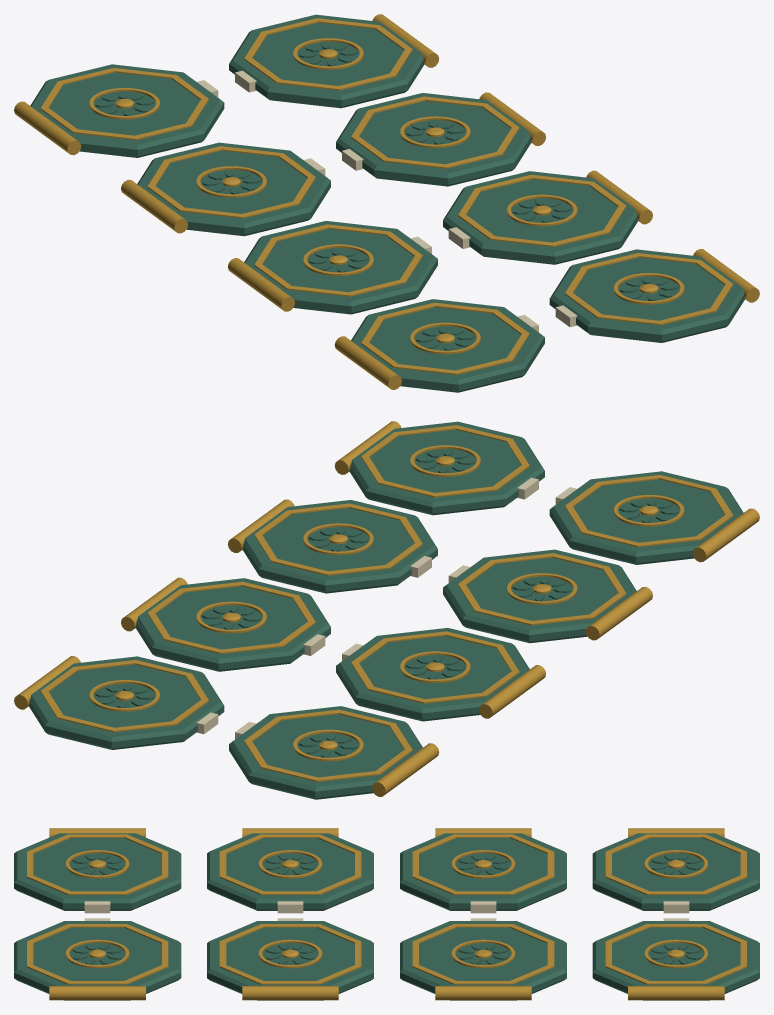
Rendered from vls8_hatches.obj.
3 renders of one model, top to bottom at view 1: azimuth 30°, elevation 25°; view 2: azimuth 150°, elevation 25°; view 3: azimuth 270°, elevation 25°, orthographic. The views are drawn at different scales.
Visible parts, largest first — view 1: vls8_hatches; view 2: vls8_hatches; view 3: vls8_hatches.
Boxes of the visible parts, x1=… form: vls8_hatches: x1=14, y1=14, x2=759, y2=392; vls8_hatches: x1=14, y1=421, x2=759, y2=799; vls8_hatches: x1=14, y1=828, x2=759, y2=1000.
Size of the model in its own units: 2.41 by 0.1028 by 4.64.
